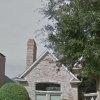Chimney: (22, 29, 38, 67)
